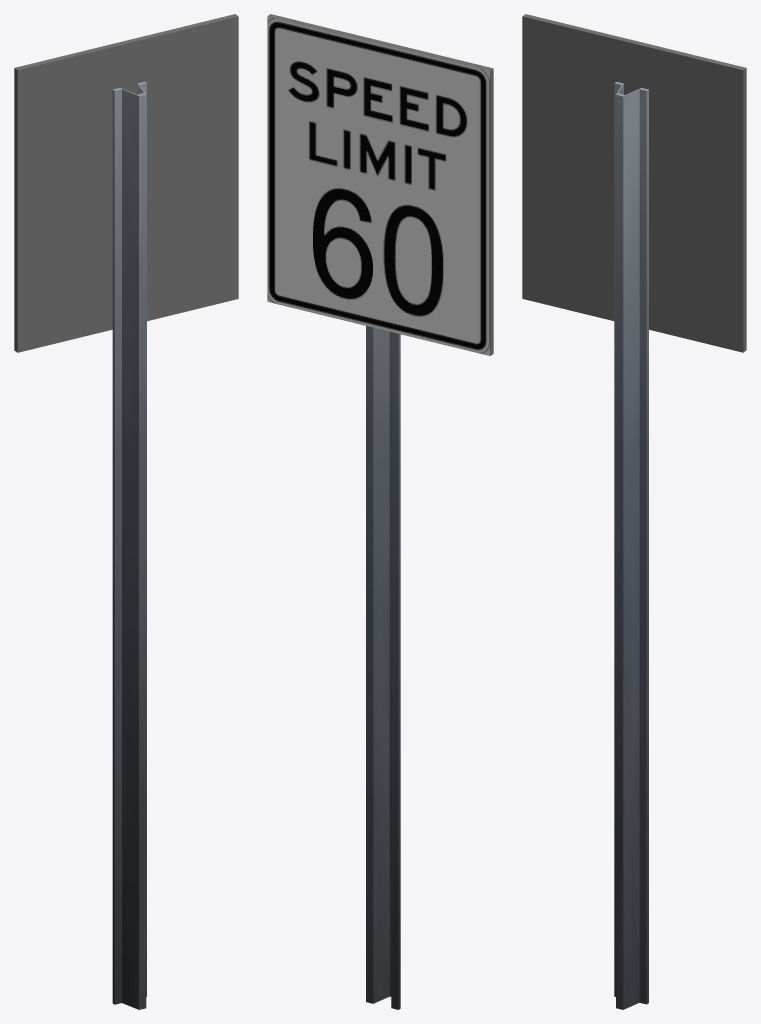
Rendered from warning_speed_fast.obj.
3 views of the same model, side by side, from view 1: azimuth 30°, elevation 25°; view 2: azimuth 150°, elevation 25°; view 3: azimuth 330°, elevation 25° (orthographic).
Parts seen in each view (by area): view 1: Mesh; view 2: Mesh; view 3: Mesh.
Boxes of the visible parts, x1,y1,x2,y2 form: Mesh: [14, 14, 238, 1009]; Mesh: [267, 14, 493, 1009]; Mesh: [522, 14, 746, 1009].
Size of the model in its own units: 0.1244 by 0.5142 by 0.0168.
